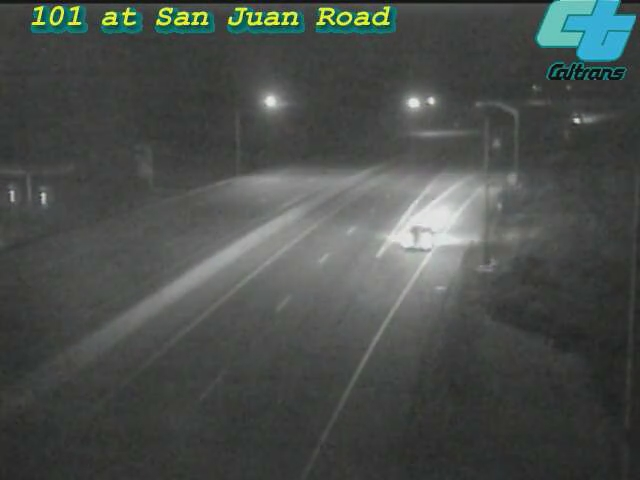vehicle: (383, 198, 463, 278), (551, 93, 601, 143)
